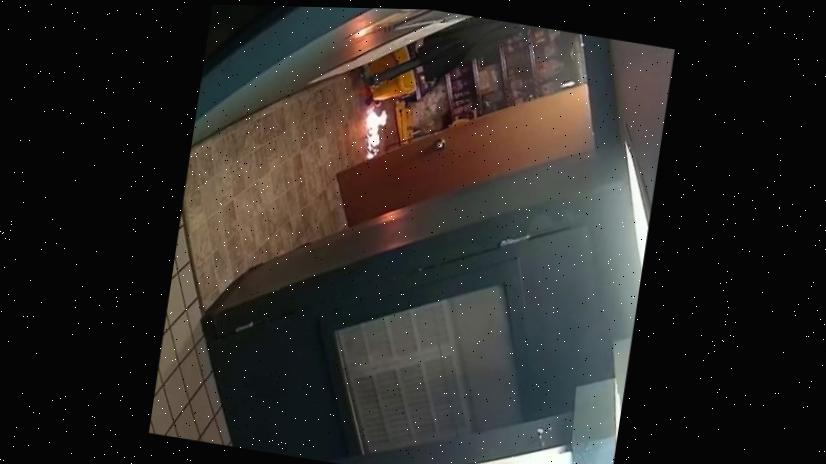fire: (327, 46, 409, 175)
